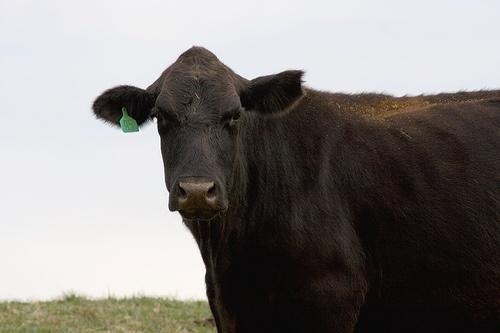cow: (87, 39, 500, 331)
